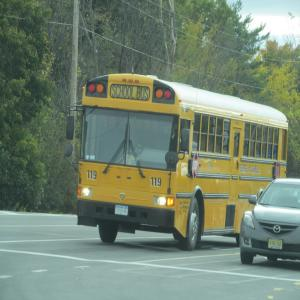Vehicle-registration-plate: (270, 240, 283, 252), (116, 205, 129, 216)
